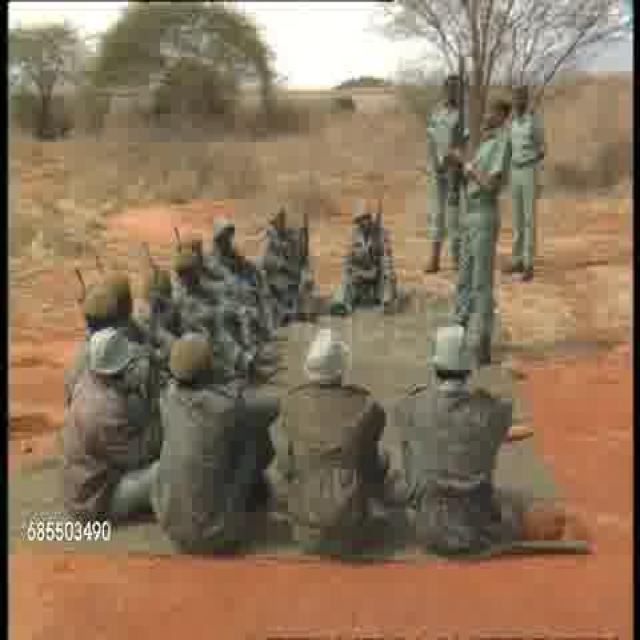poacher: (392, 315, 523, 553), (274, 322, 378, 550), (148, 334, 252, 535), (453, 91, 519, 313), (74, 322, 150, 512), (428, 66, 473, 262), (253, 204, 323, 313), (338, 201, 408, 306)
